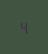four: (19, 20, 27, 33)
